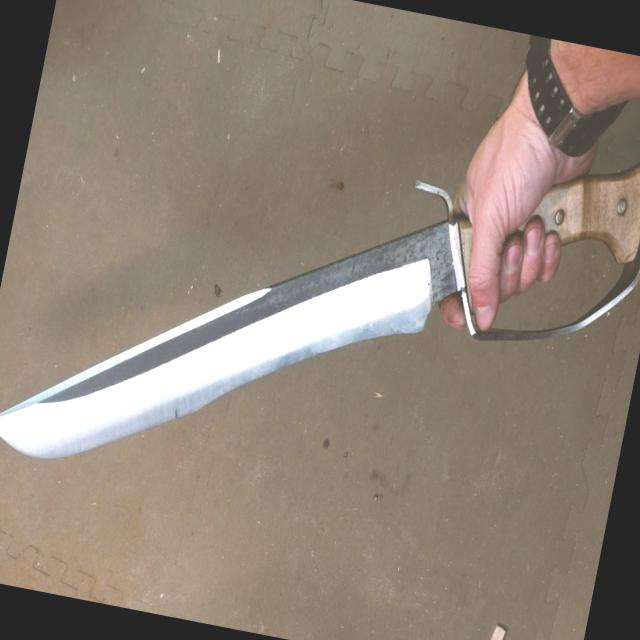knife: (0, 66, 525, 566)
